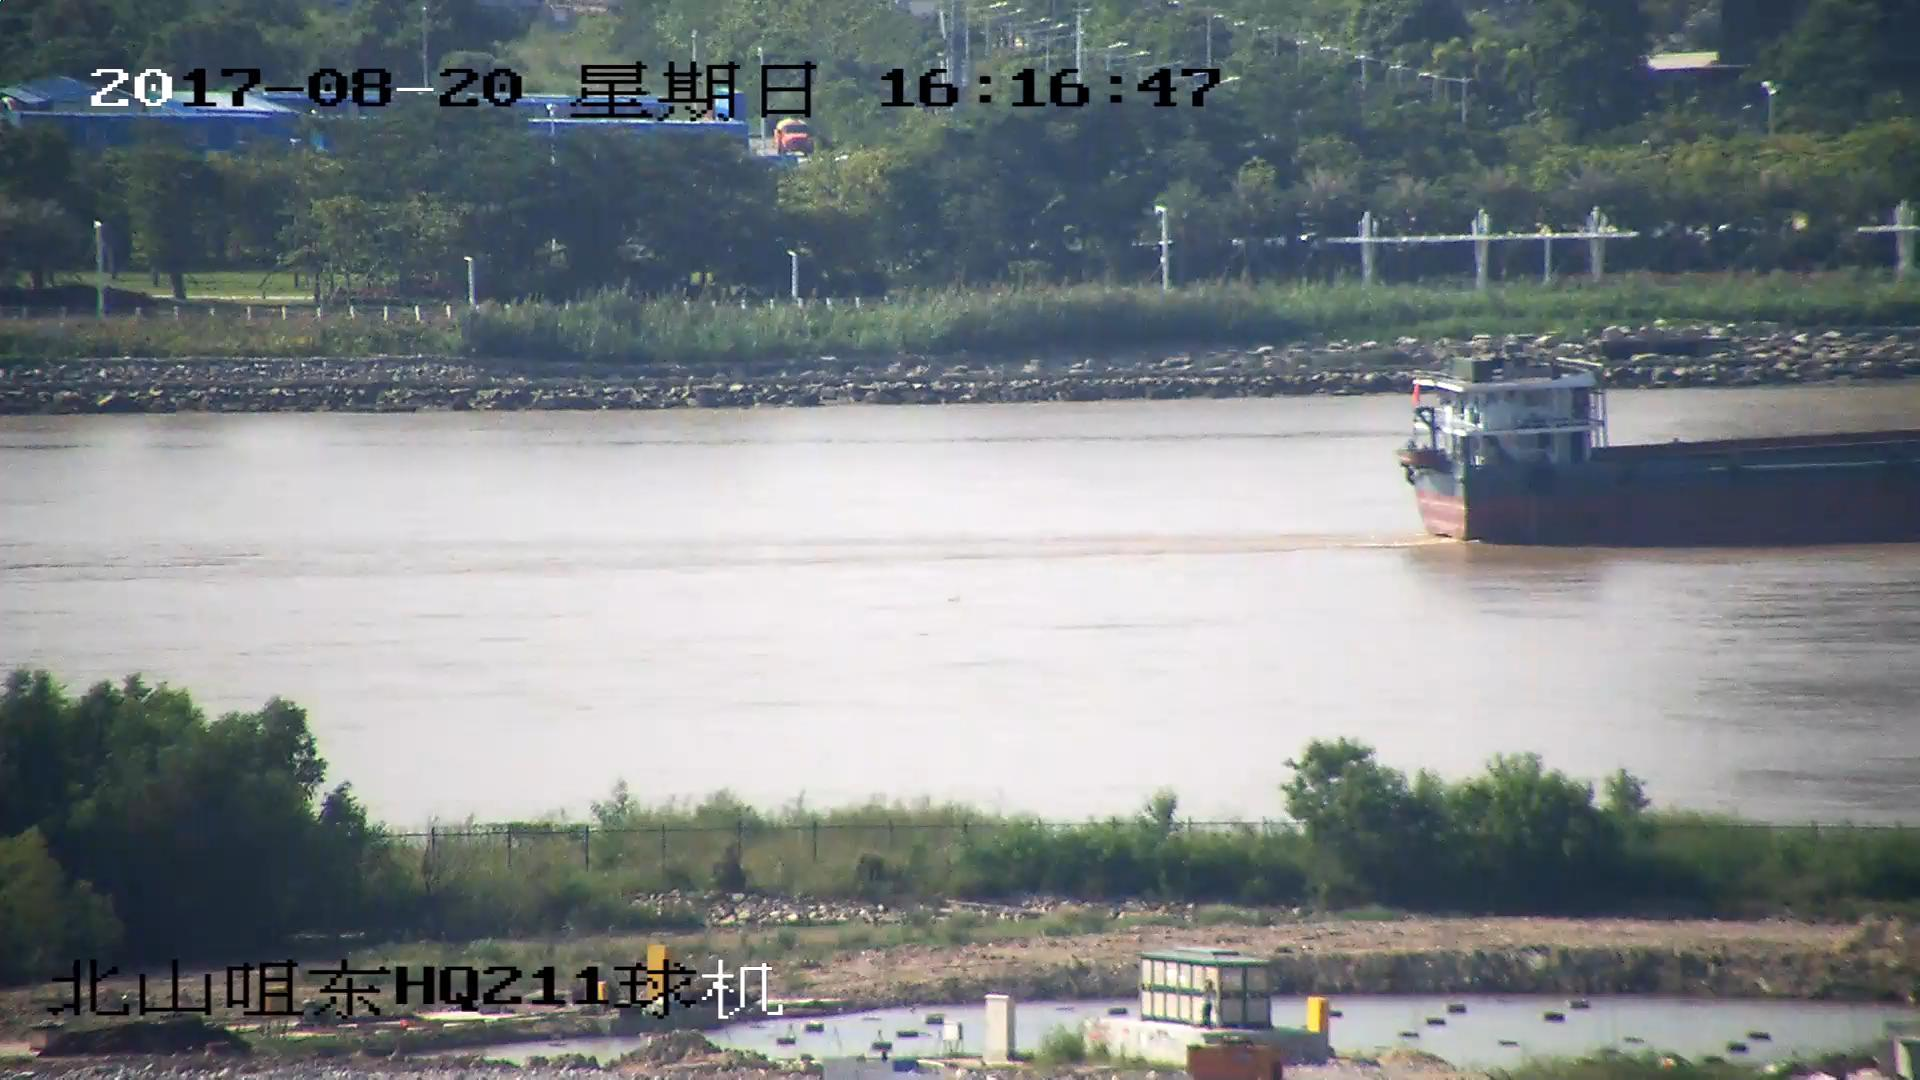Ship: (1398, 359, 1920, 554)
